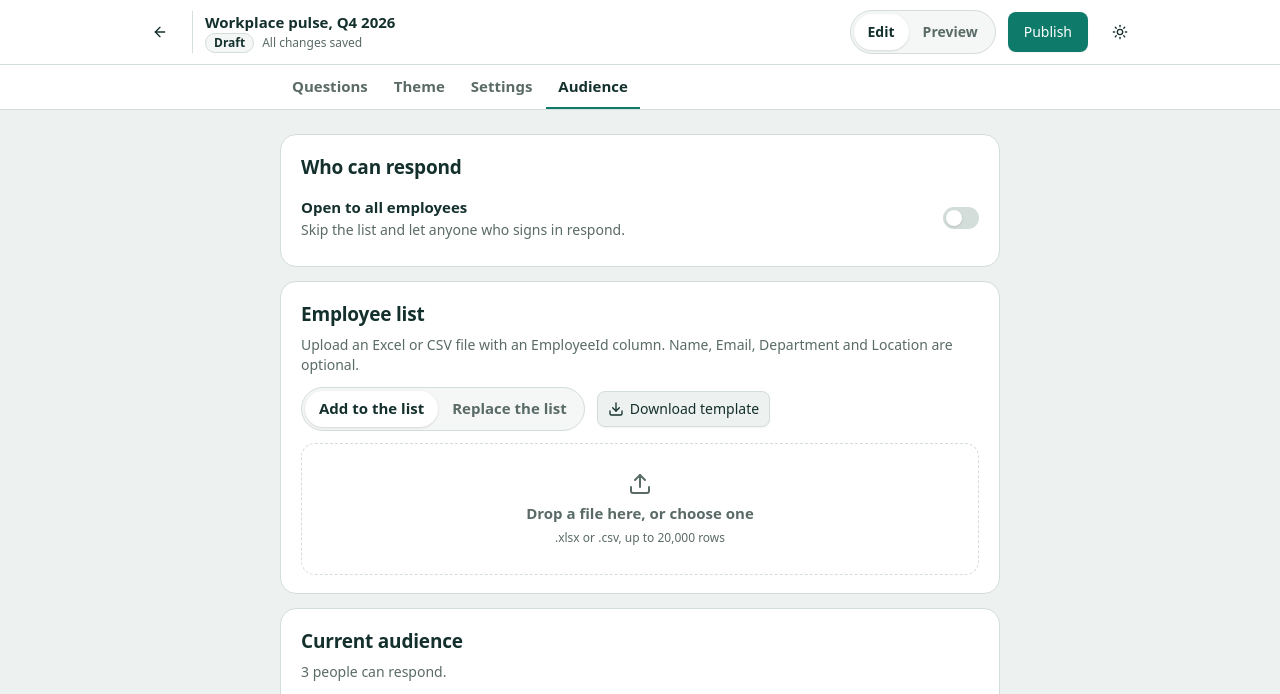
Test case: Audience tab › opens the survey to everyone
The image size is (1280, 694).
expect the heading "Who can respond" is shown: met, box [301,154,462,180]
Click the switch named "Open to all employees": (961, 218) [943,198,979,238]
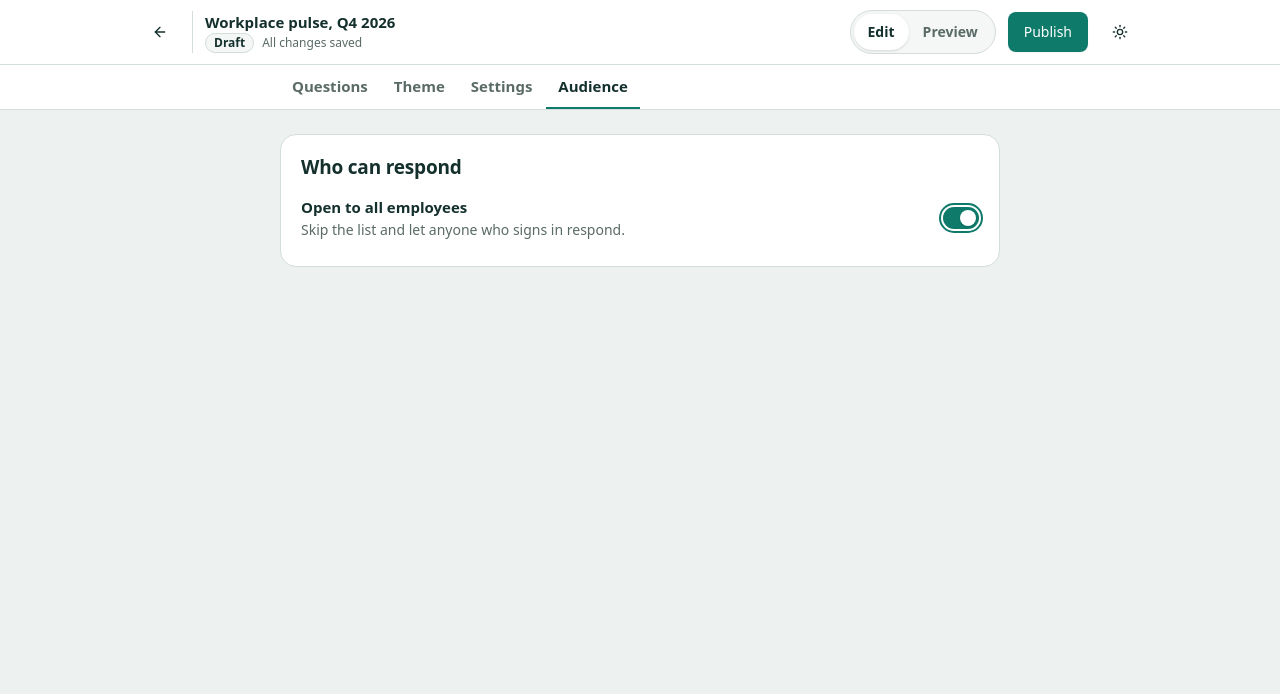
expect the heading "Employee list" is gone: met
